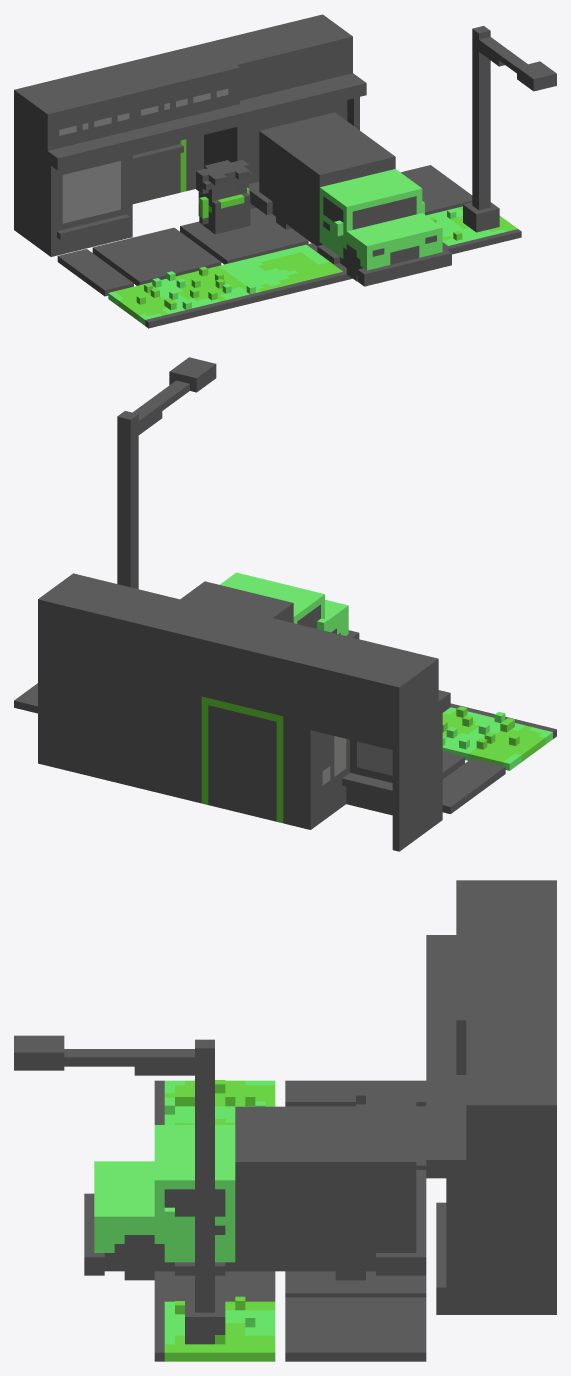
File: scene_store3.obj
The picture shows the model from 3 angles, top to bottom: view 1: azimuth 30°, elevation 25°; view 2: azimuth 150°, elevation 25°; view 3: azimuth 270°, elevation 25°; orthographic projection. The views are drawn at different scales.
Bounding box in the file's own units: 64 × 33 × 54.
